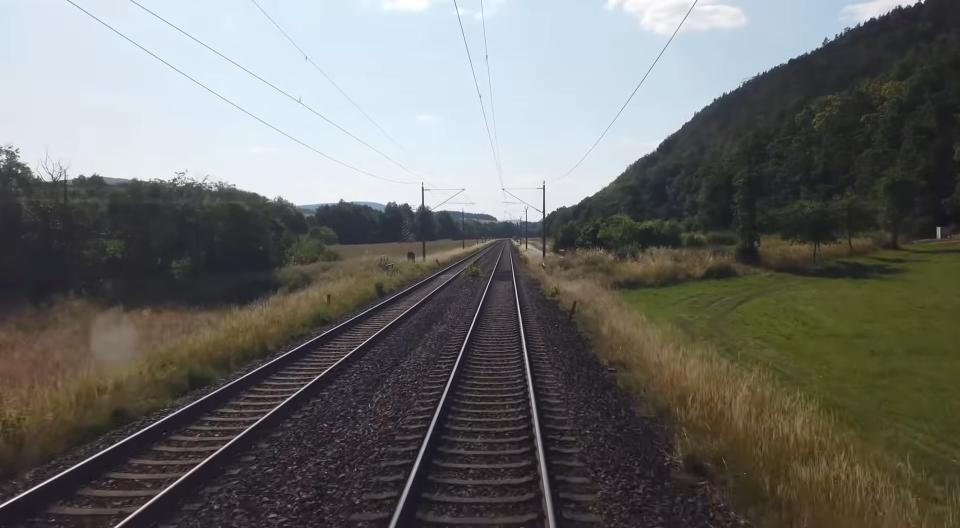Plant: (465, 264, 482, 277)
